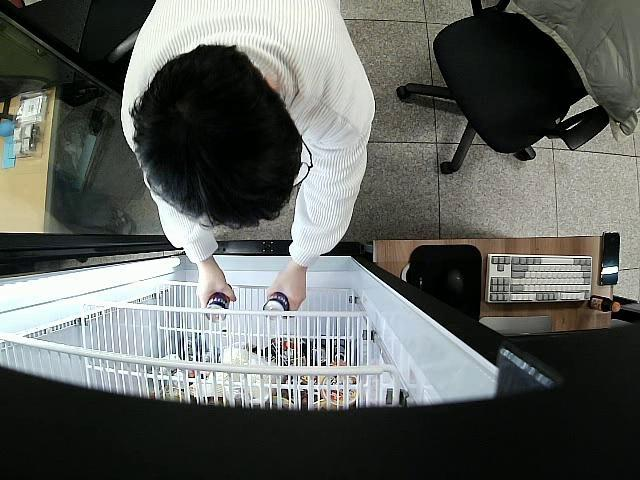16_hot6: (204, 292, 228, 321), (262, 292, 291, 312)
